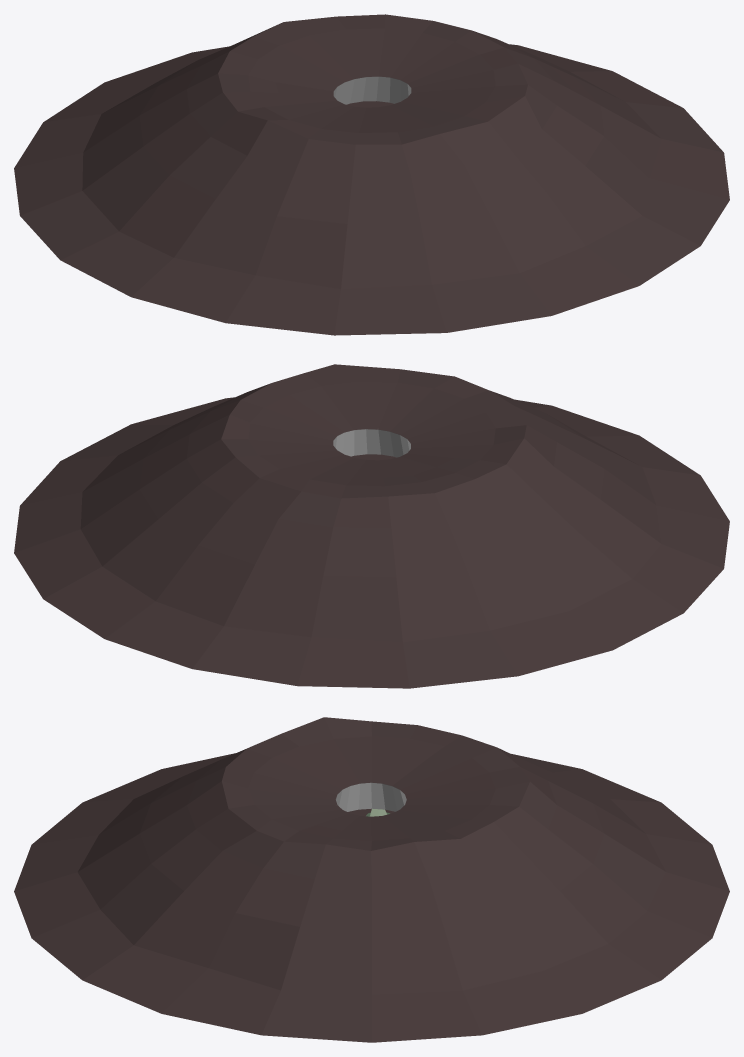
File: HandFromGroundNailsDirt_animated.fbx
3 renders of one model, top to bottom at view 1: azimuth 30°, elevation 25°; view 2: azimuth 150°, elevation 25°; view 3: azimuth 270°, elevation 25°, orthographic.
Visible parts, largest first — view 1: Hand out of Ground but nails_Dirt_d; view 2: Hand out of Ground but nails_Dirt_d; view 3: Hand out of Ground but nails_Dirt_d.
Boxes of the visible parts, x1,y1,x2,y2 form: Hand out of Ground but nails_Dirt_d: (14, 14, 729, 335); Hand out of Ground but nails_Dirt_d: (14, 364, 729, 688); Hand out of Ground but nails_Dirt_d: (14, 717, 729, 1042).
Bounding box in the file's own units: 299 × 51.6 × 299.
